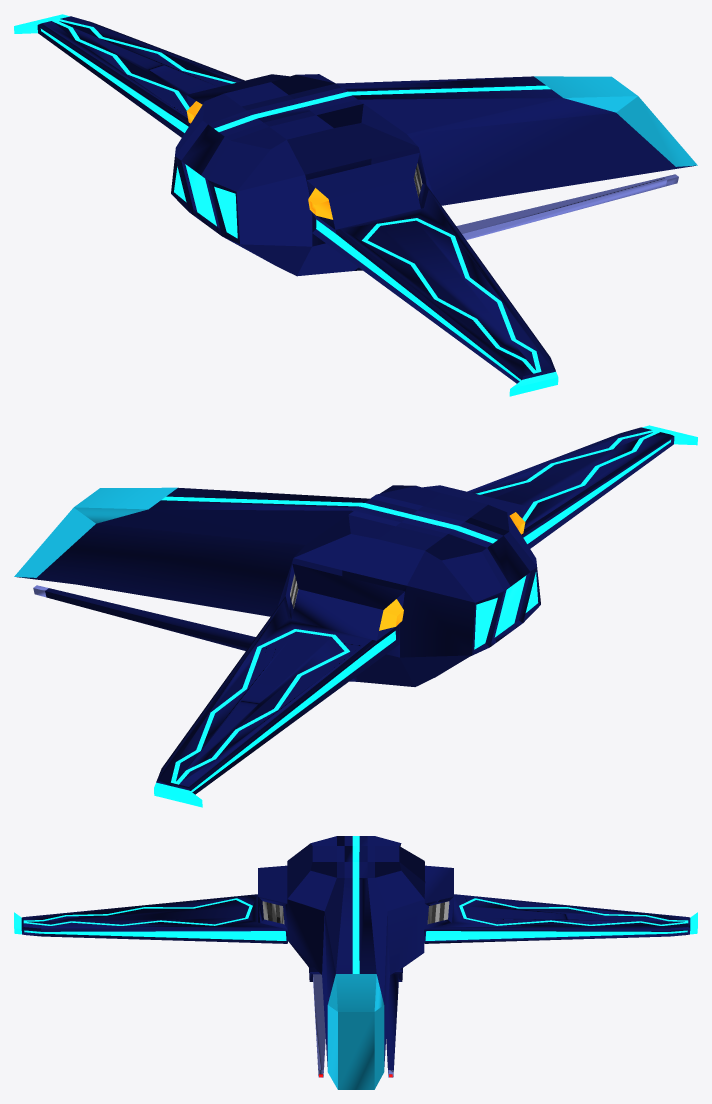
Rendered from lowpolyspaceship.fbx.
3 views of the same model, one above another, from view 1: azimuth 30°, elevation 25°; view 2: azimuth 150°, elevation 25°; view 3: azimuth 270°, elevation 25° (orthographic). The views are drawn at different scales.
Visible parts, largest first — view 1: Cube, Wing; view 2: Cube, Wing; view 3: Cube, Wing.
Boxes of the visible parts, left/top/right/bottom form: Cube: left=171, top=74, right=697, bottom=276; Wing: left=14, top=14, right=558, bottom=396; Cube: left=14, top=485, right=540, bottom=686; Wing: left=154, top=425, right=697, bottom=807; Cube: left=287, top=836, right=425, bottom=1089; Wing: left=14, top=865, right=697, bottom=943.
Bounding box in the file's own units: 575 × 168 × 1002.
